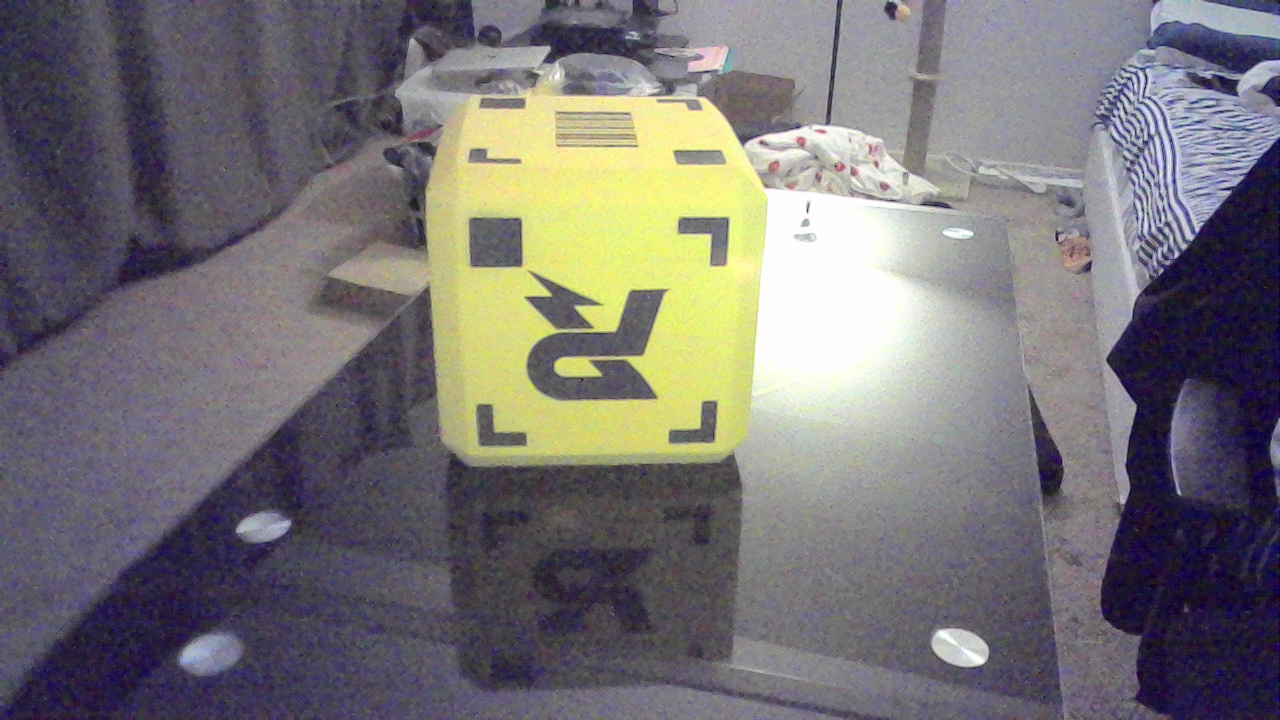Barcode: (547, 110, 656, 160)
R: (515, 262, 691, 425)
